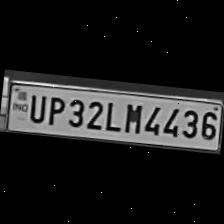2: (82, 95, 106, 131)
3: (177, 104, 200, 140), (63, 94, 85, 128)
4: (158, 103, 181, 137), (142, 100, 162, 136)
6: (196, 106, 218, 142)
L: (100, 97, 120, 133)
M: (118, 99, 145, 136)
P: (42, 92, 64, 128)
U: (24, 90, 46, 124)
